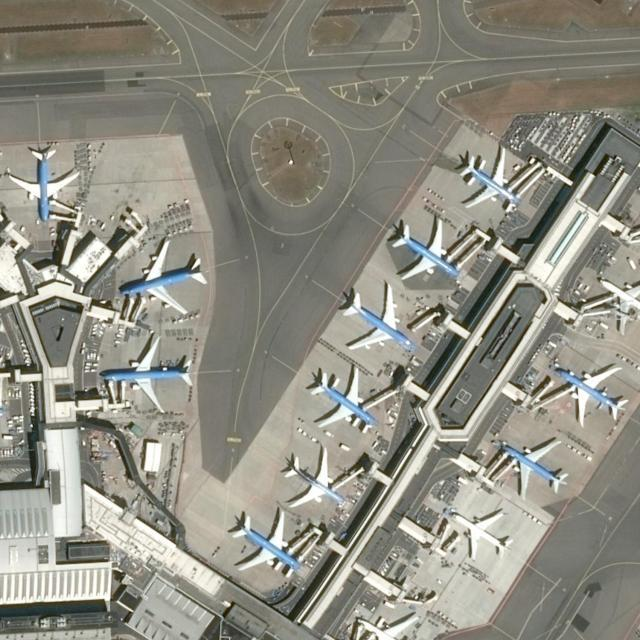Aircraft: (100, 338, 197, 412), (118, 238, 207, 314), (5, 145, 79, 223), (336, 285, 417, 350), (389, 215, 461, 280), (554, 365, 629, 427), (309, 364, 377, 432), (230, 510, 302, 572), (500, 440, 570, 498), (280, 446, 346, 506), (460, 145, 520, 209), (446, 510, 516, 559), (595, 274, 640, 336), (355, 614, 429, 640)
